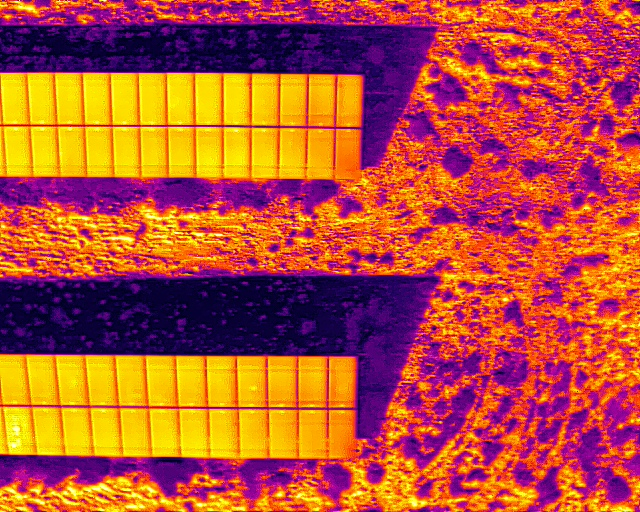multi_spot: (4, 406, 36, 454)
photovoltaic_panels: (2, 69, 365, 181), (1, 353, 359, 461)
single_spot: (236, 355, 267, 407)
